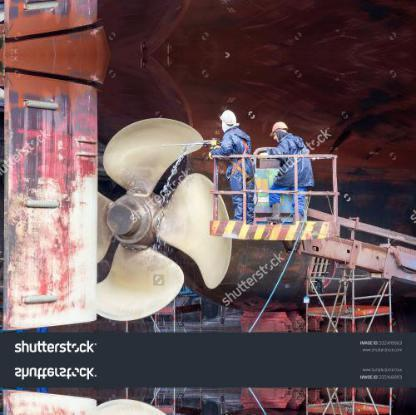helmet: (218, 104, 242, 135), (270, 119, 292, 138)
